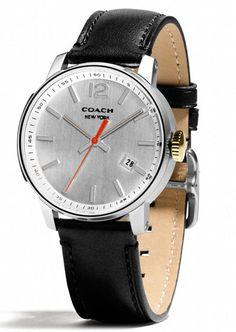clock: (23, 66, 166, 217)
